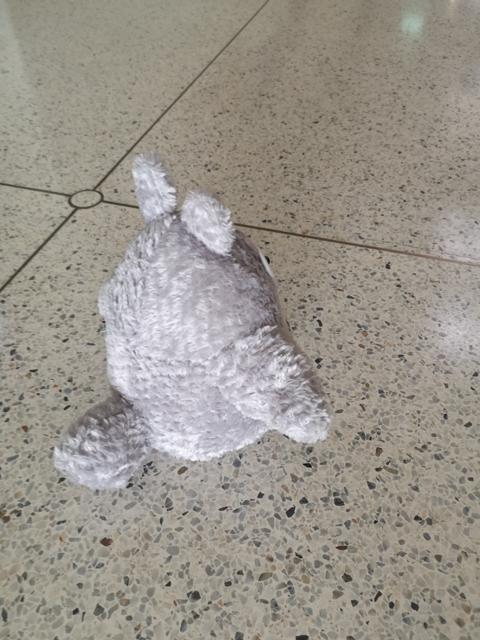totoro: (53, 150, 338, 499)
